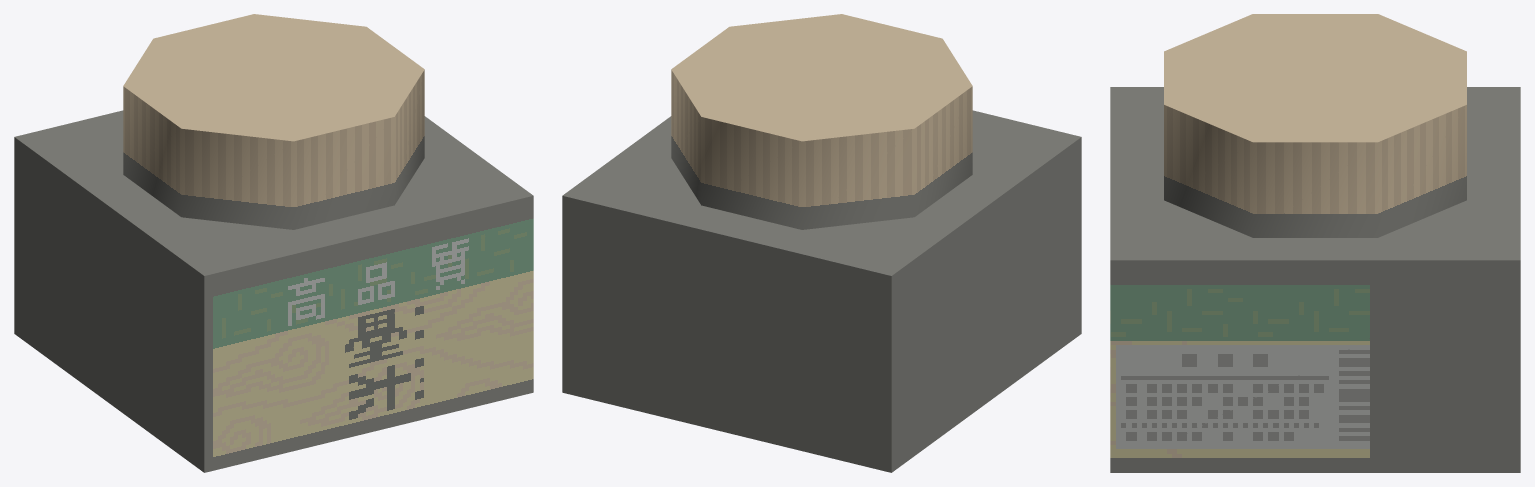
Rendered from 0053_India_Ink.glb.
3 renders of one model, left to right at view 1: azimuth 30°, elevation 25°; view 2: azimuth 150°, elevation 25°; view 3: azimuth 270°, elevation 25°, orthographic. The views are drawn at different scales.
Parts seen in each view (by area): view 1: part_0; view 2: part_0; view 3: part_0.
Part boxes in pixels (x1=…): part_0: x1=14, y1=14, x2=533, y2=472; part_0: x1=562, y1=14, x2=1081, y2=472; part_0: x1=1110, y1=14, x2=1520, y2=472.
Bounding box in the file's own units: 0.07 × 0.058 × 0.07.
Materials: 1 (1 with a texture image).
